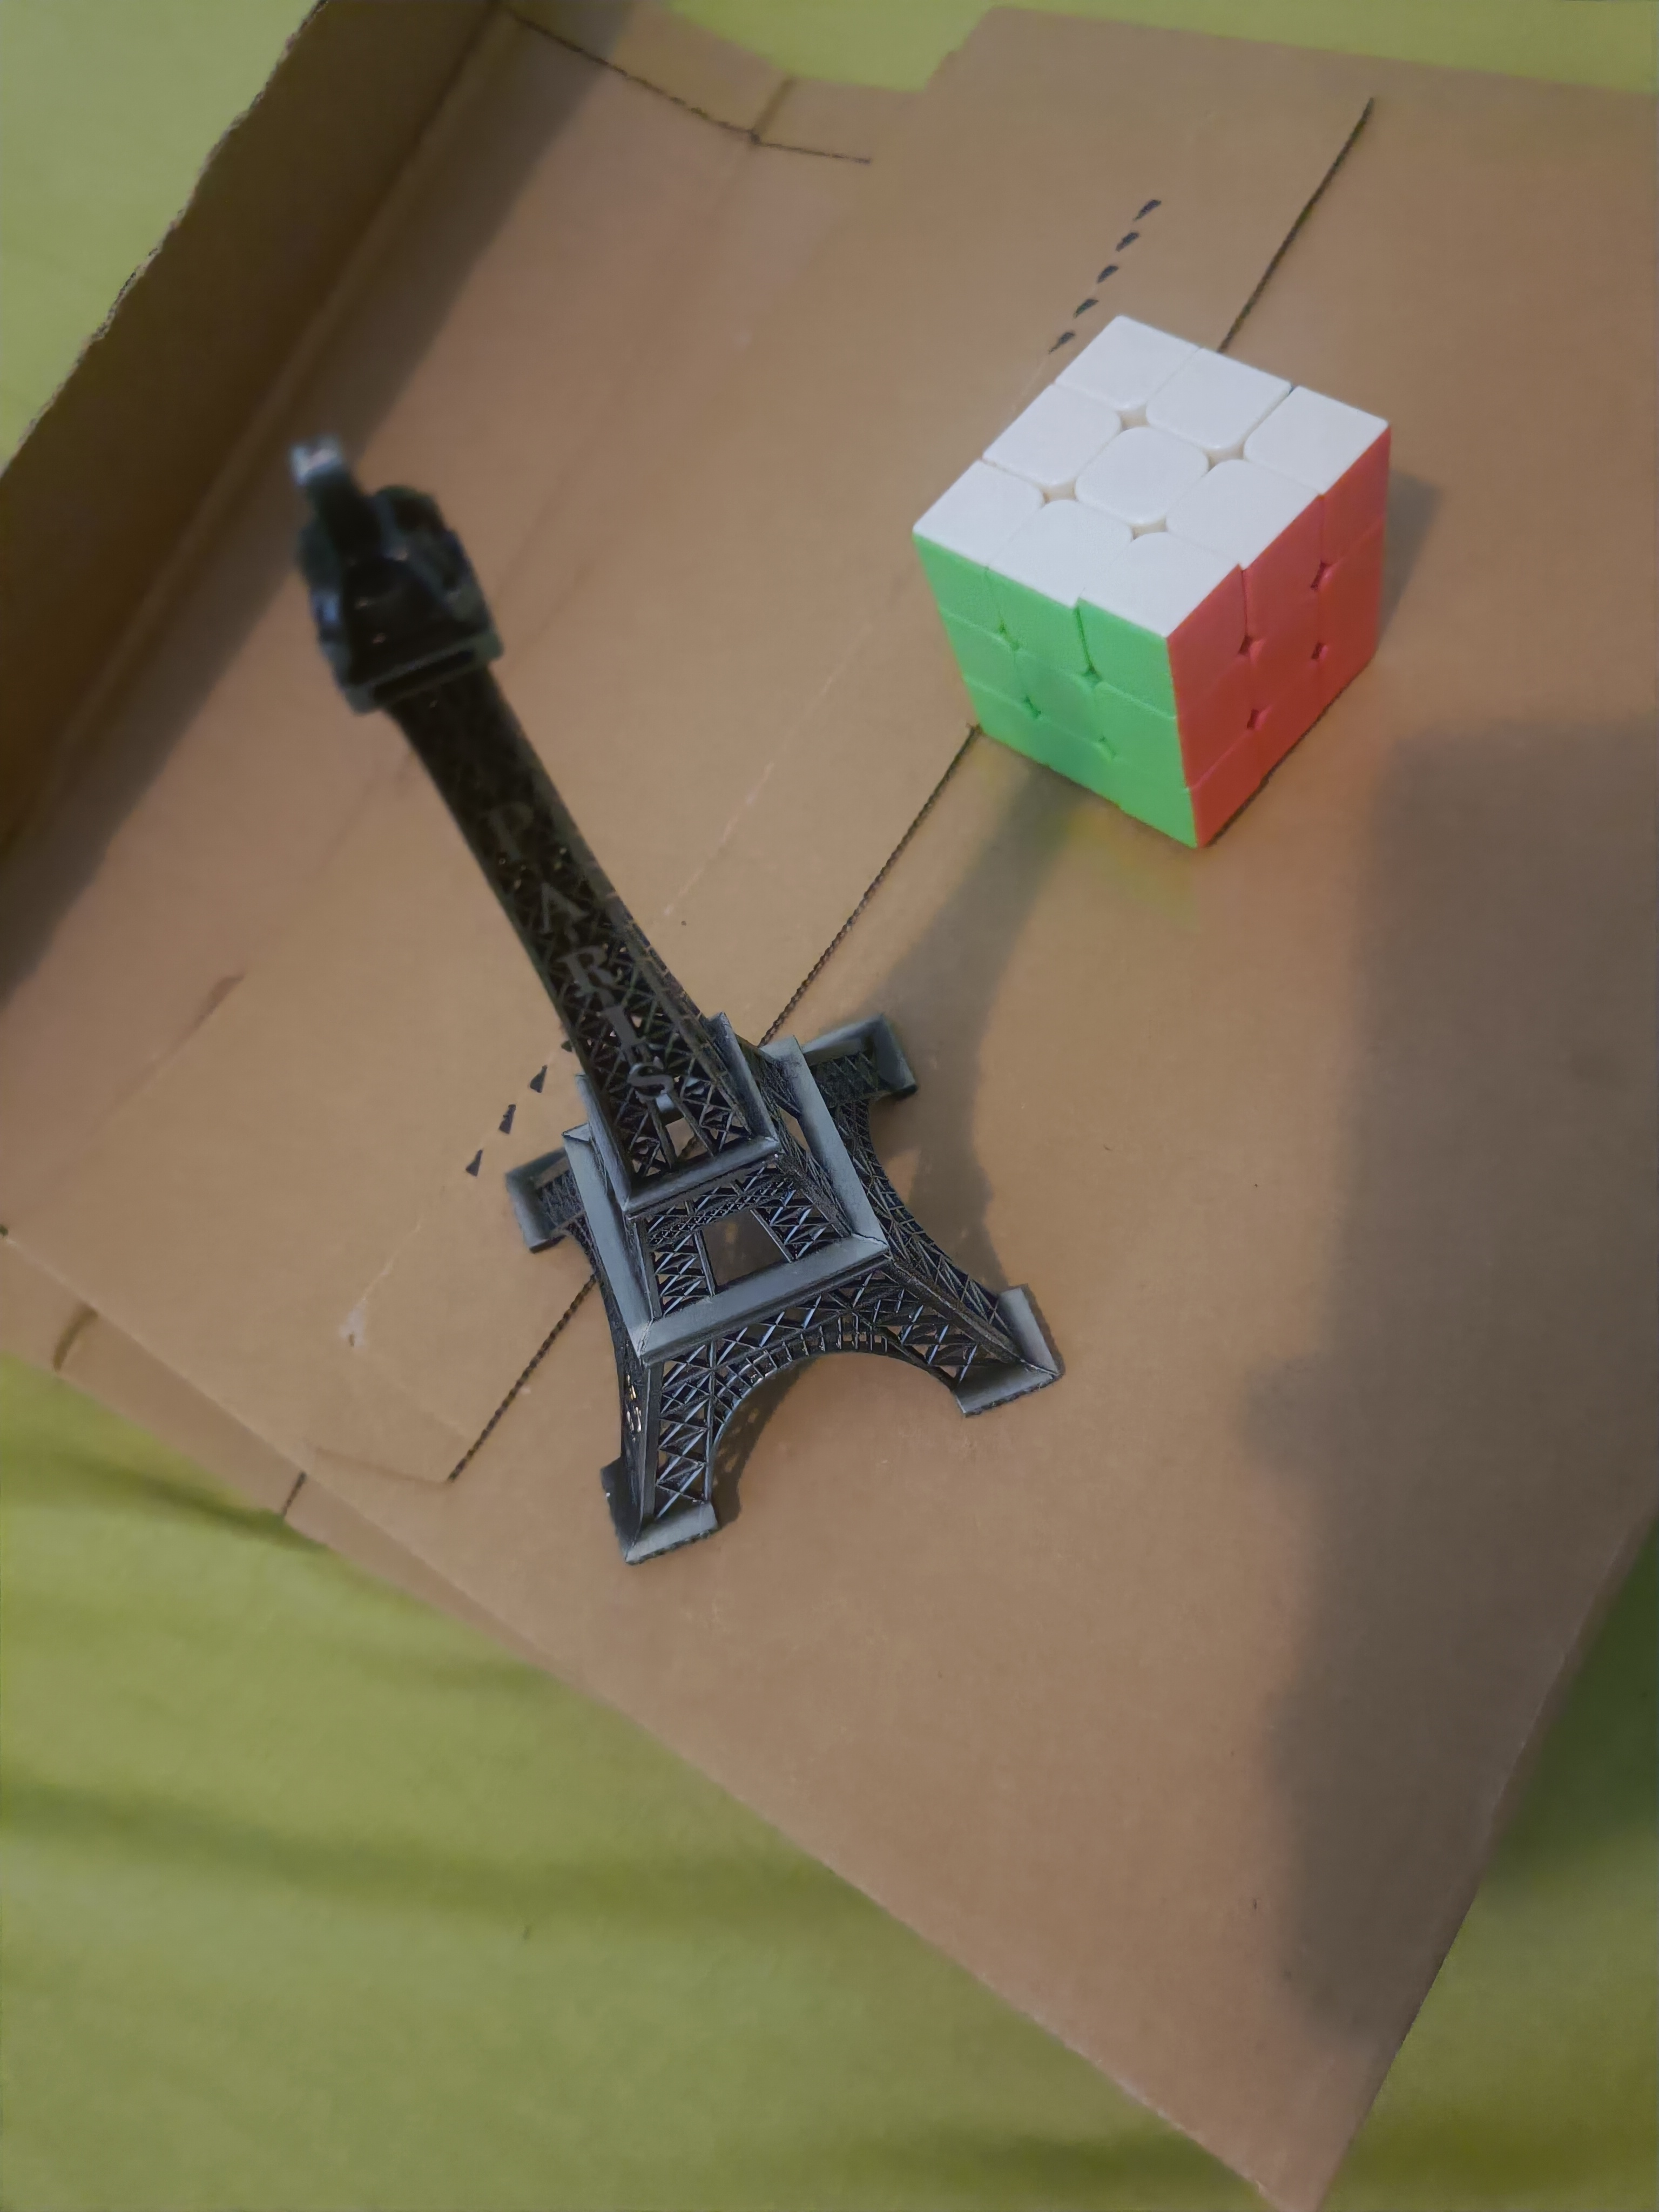Eiffel Tower: (254, 385, 1072, 1576)
Rubiks Cube: (896, 280, 1405, 874)
